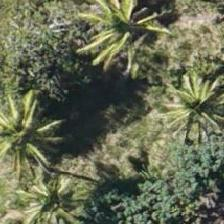coconut_tree: (146, 53, 223, 143), (0, 73, 70, 163), (73, 0, 163, 67)
